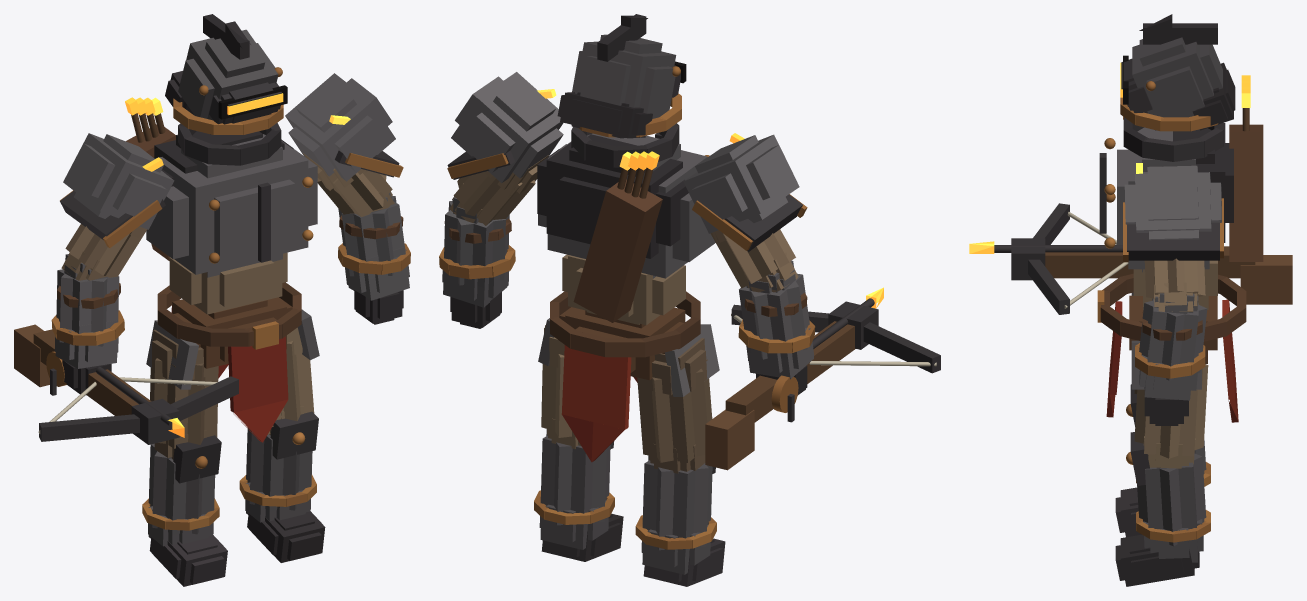
The picture shows the model from 3 angles, left to right: view 1: azimuth 30°, elevation 25°; view 2: azimuth 150°, elevation 25°; view 3: azimuth 270°, elevation 25°; orthographic projection. The views are drawn at different scales.
Parts seen in each view (by area): view 1: SiegeArbalist; view 2: SiegeArbalist; view 3: SiegeArbalist.
Boxes of the visible parts, bbox=[...] form: SiegeArbalist: bbox=[14, 14, 410, 586]; SiegeArbalist: bbox=[439, 14, 940, 586]; SiegeArbalist: bbox=[969, 14, 1292, 586].
Size of the model in its own units: 1.21 by 1.46 by 0.798.
